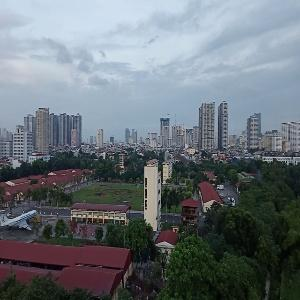drone: (153, 129, 213, 189)
